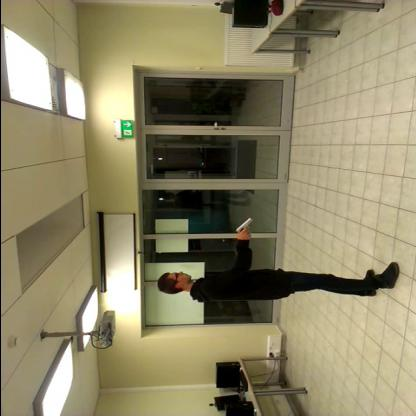Pistol: (230, 214, 258, 235)
